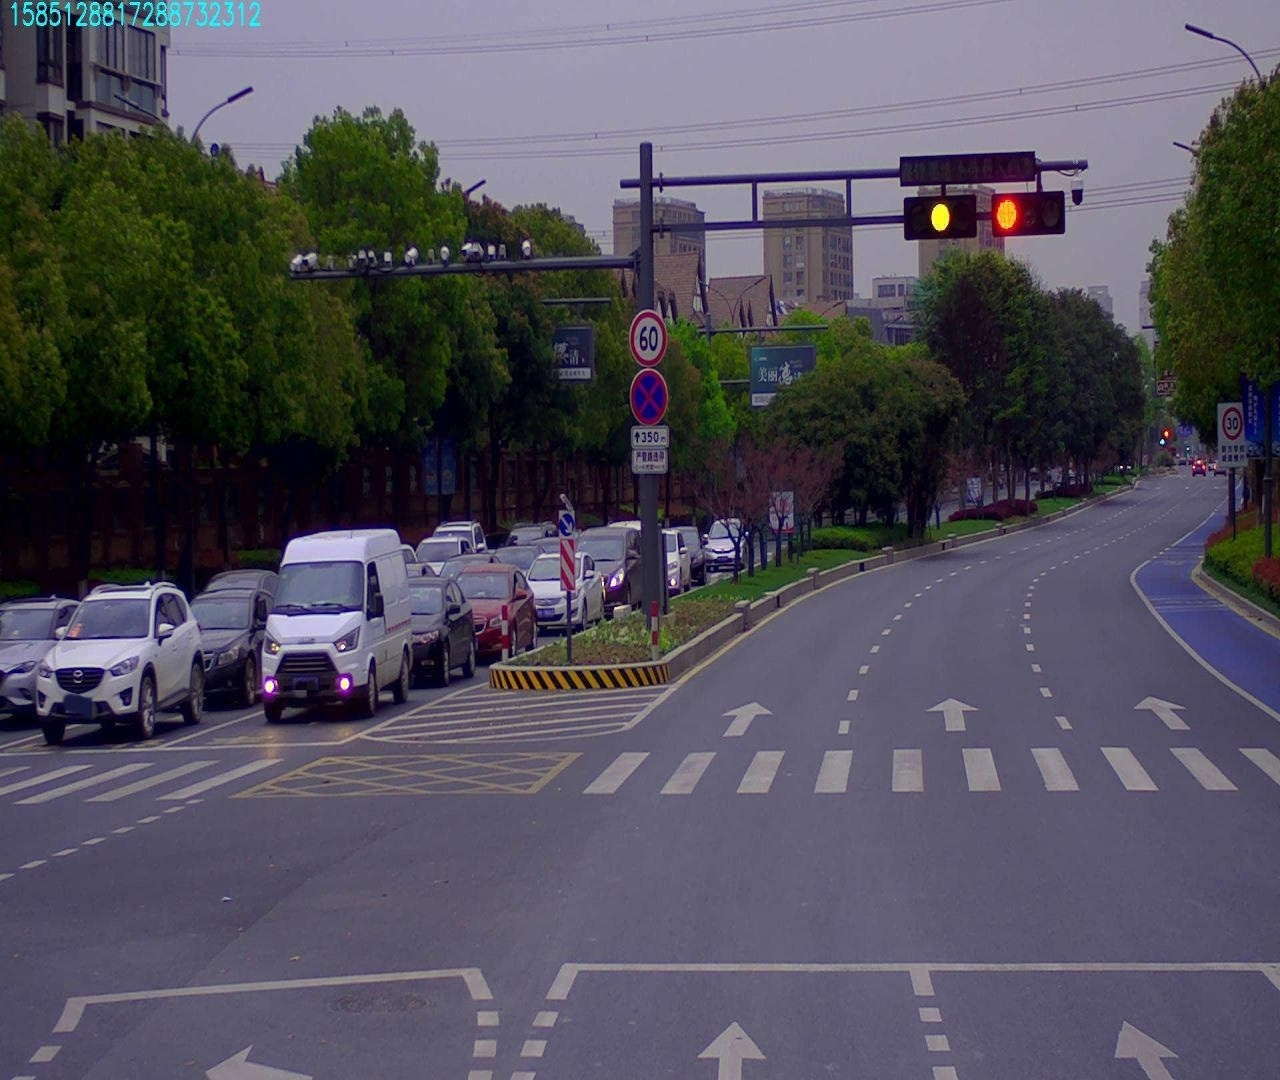red: (987, 187, 1066, 236)
yellow: (898, 196, 978, 247)
